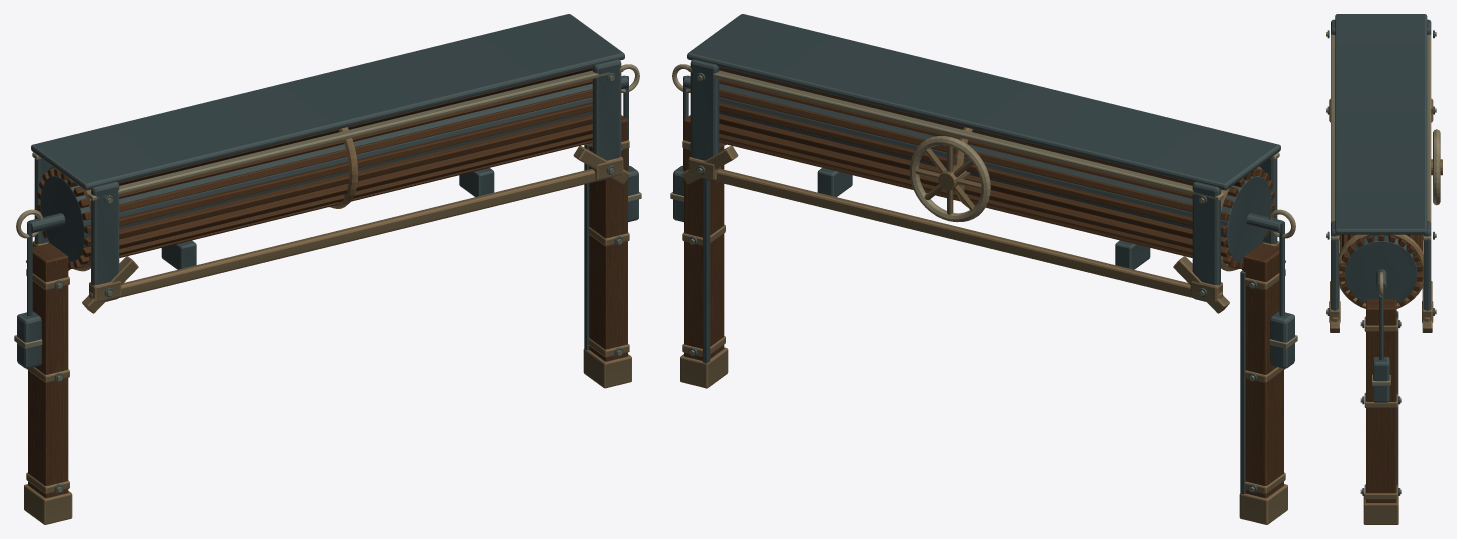
Rendered from sluice_frame_18.glb.
3 renders of one model, left to right at view 1: azimuth 30°, elevation 25°; view 2: azimuth 150°, elevation 25°; view 3: azimuth 270°, elevation 25°, orthographic. The views are drawn at different scales.
Visible parts, largest first — view 1: sluice_frame_18; view 2: sluice_frame_18; view 3: sluice_frame_18.
Part boxes in pixels (x1,y1,x2,y2): sluice_frame_18: (14,14,641,524); sluice_frame_18: (670,14,1297,524); sluice_frame_18: (1326,14,1442,524).
Size of the model in its own units: 21.11 by 11.25 by 4.17.
Materials: 4 (1 with a texture image).
